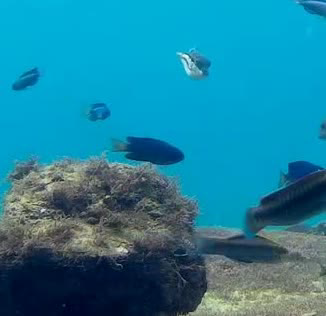smallfish: (102, 128, 199, 173)
